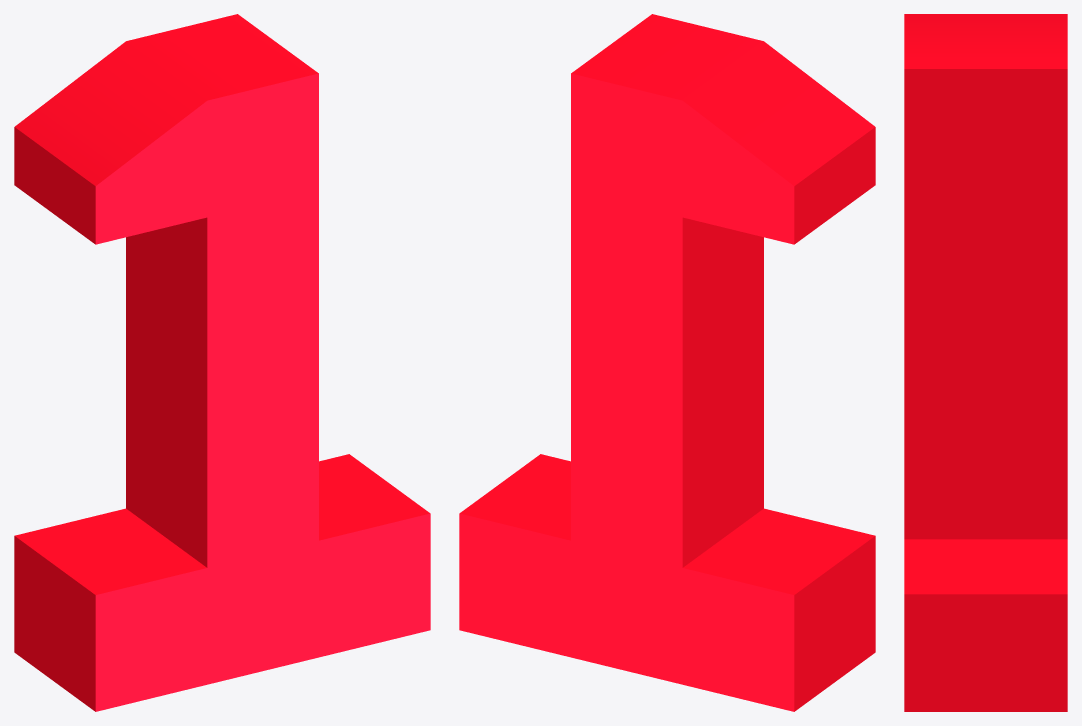
File: 54744e28-7a33-4f76-9519-eed7427ff24d.glb
The picture shows the model from 3 angles, left to right: view 1: azimuth 30°, elevation 25°; view 2: azimuth 150°, elevation 25°; view 3: azimuth 270°, elevation 25°; orthographic projection.
Parts seen in each view (by area): view 1: 1_DeltaBlock_Red; view 2: 1_DeltaBlock_Red; view 3: 1_DeltaBlock_Red.
Boxes of the visible parts, x1,y1,x2,y2 form: 1_DeltaBlock_Red: [14, 14, 430, 711]; 1_DeltaBlock_Red: [459, 14, 875, 711]; 1_DeltaBlock_Red: [904, 14, 1067, 711].
Size of what is drawn, in the model's own units: 0.1071 by 0.1786 by 0.045.
2 materials, 2 textured.
